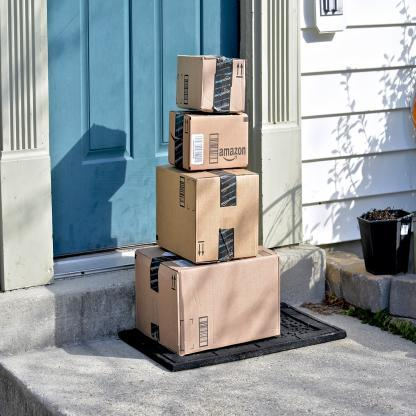package: (131, 240, 283, 362), (154, 161, 262, 262), (166, 106, 255, 171), (173, 50, 248, 115)
